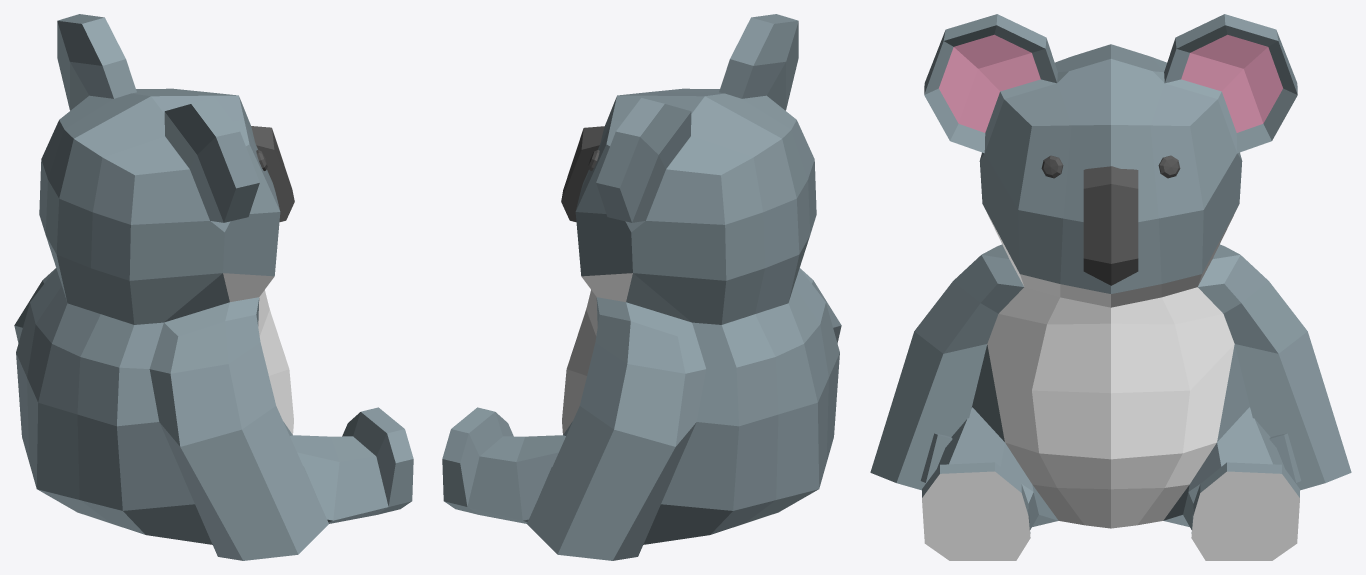
The model's file is Koala_01.glb.
3 views of the same model, side by side, from view 1: azimuth 30°, elevation 25°; view 2: azimuth 150°, elevation 25°; view 3: azimuth 270°, elevation 25° (orthographic). The views are drawn at different scales.
Parts seen in each view (by area): view 1: node-0; view 2: node-0; view 3: node-0.
Part boxes in pixels (x1,y1,x2,y2): node-0: (14, 14, 413, 560); node-0: (442, 14, 841, 560); node-0: (870, 14, 1351, 560).
Bounding box in the file's own units: 6.84 × 9.94 × 9.56.
